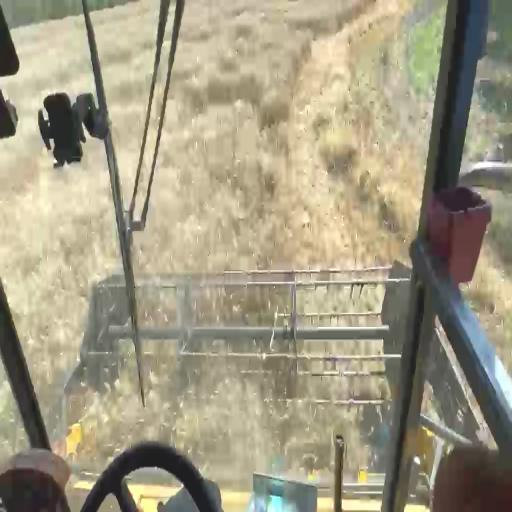bugday: (132, 0, 433, 278), (0, 120, 121, 425), (100, 367, 306, 468), (92, 0, 158, 209), (7, 16, 94, 116)
